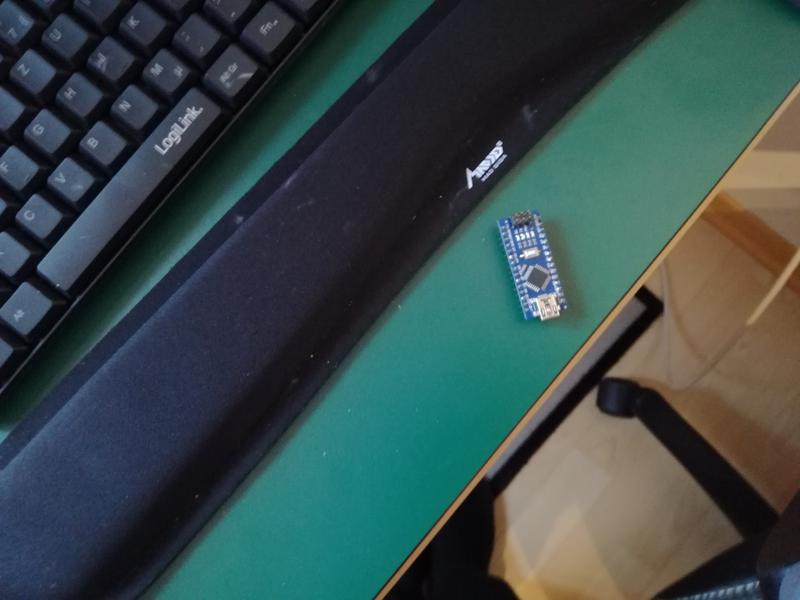Arduino_Nano: (492, 207, 578, 325)
